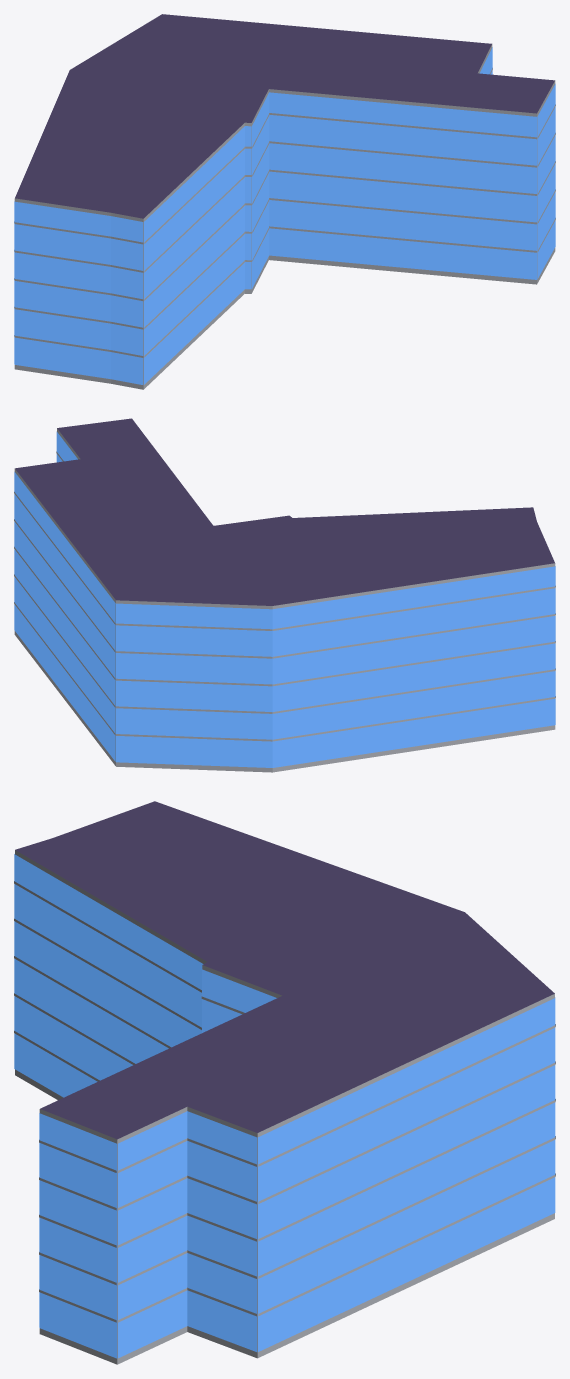
Rendered from core-western-interdisciplinary-research-build.glb.
3 renders of one model, top to bottom at view 1: azimuth 30°, elevation 25°; view 2: azimuth 150°, elevation 25°; view 3: azimuth 270°, elevation 25°, orthographic. The views are drawn at different scales.
Parts seen in each view (by area): view 1: campus/core-western-interdisciplinary-research-build-0; view 2: campus/core-western-interdisciplinary-research-build-0; view 3: campus/core-western-interdisciplinary-research-build-0.
Part boxes in pixels (<box>): campus/core-western-interdisciplinary-research-build-0: <box>14,14,555,389</box>; campus/core-western-interdisciplinary-research-build-0: <box>14,418,555,772</box>; campus/core-western-interdisciplinary-research-build-0: <box>14,801,555,1364</box>.
Size of the model in its own units: 70 by 21.7 by 47.31.
